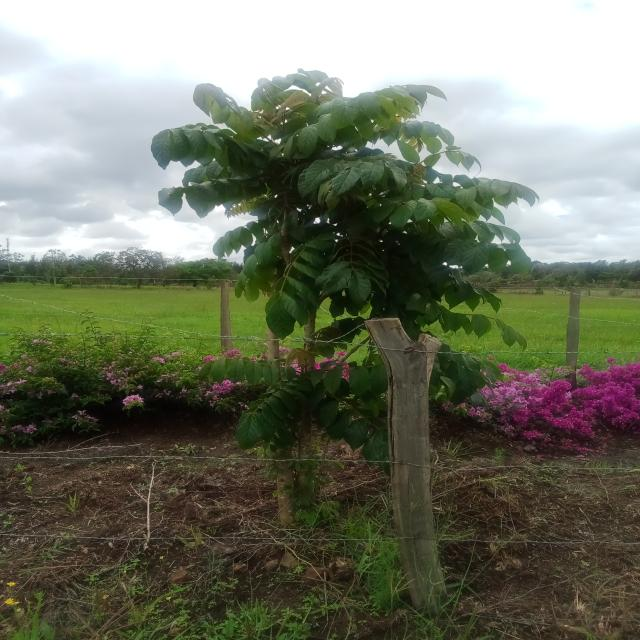Polyscias Kikuyensis: (152, 56, 546, 530)
